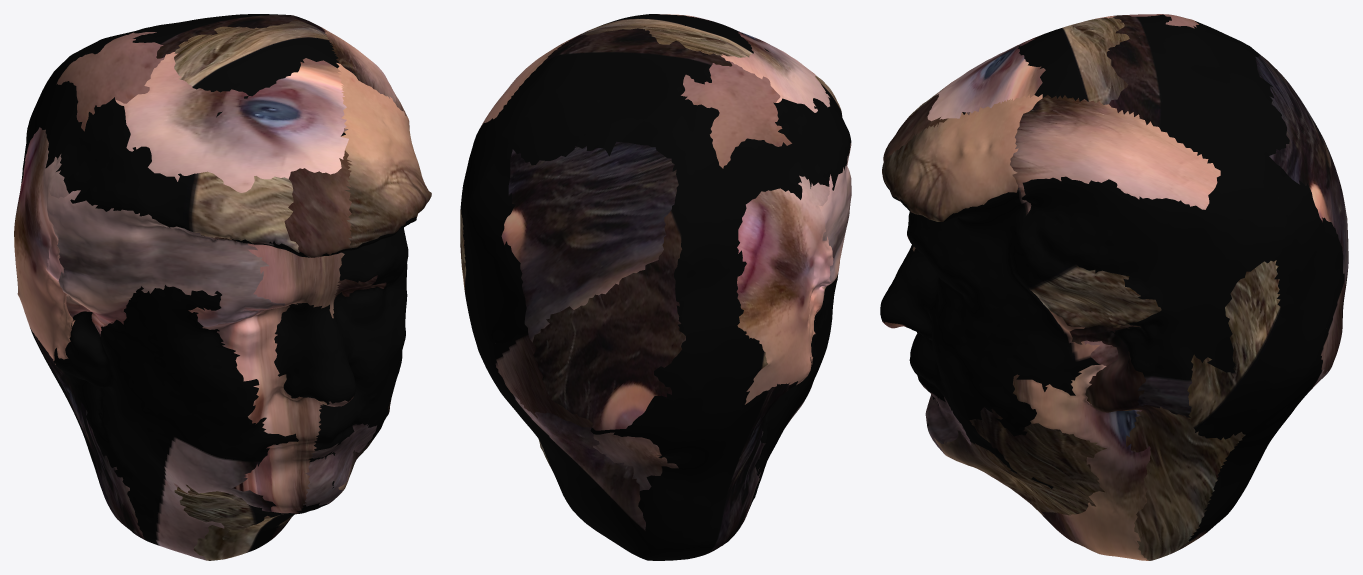
The picture shows the model from 3 angles, left to right: view 1: azimuth 30°, elevation 25°; view 2: azimuth 150°, elevation 25°; view 3: azimuth 270°, elevation 25°; orthographic projection. The views are drawn at different scales.
Parts seen in each view (by area): view 1: mainMeshNode; view 2: mainMeshNode; view 3: mainMeshNode.
Boxes of the visible parts, x1=… form: mainMeshNode: x1=14, y1=14, x2=431, y2=560; mainMeshNode: x1=460, y1=14, x2=851, y2=560; mainMeshNode: x1=880, y1=14, x2=1348, y2=560.
Bounding box in the file's own units: 22.4 × 31.77 × 26.61.
